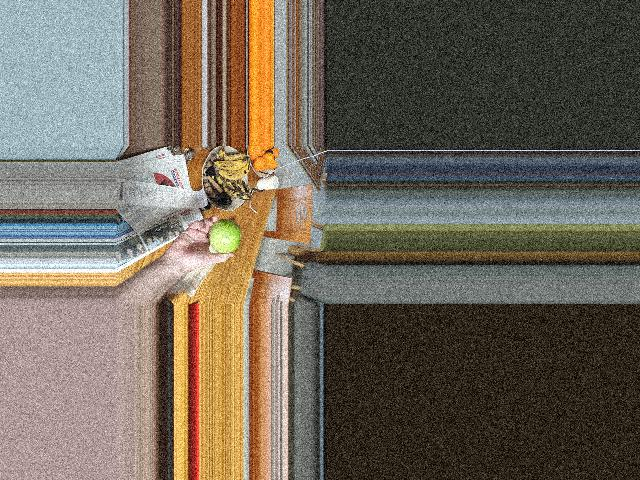apple: (208, 219, 243, 253)
